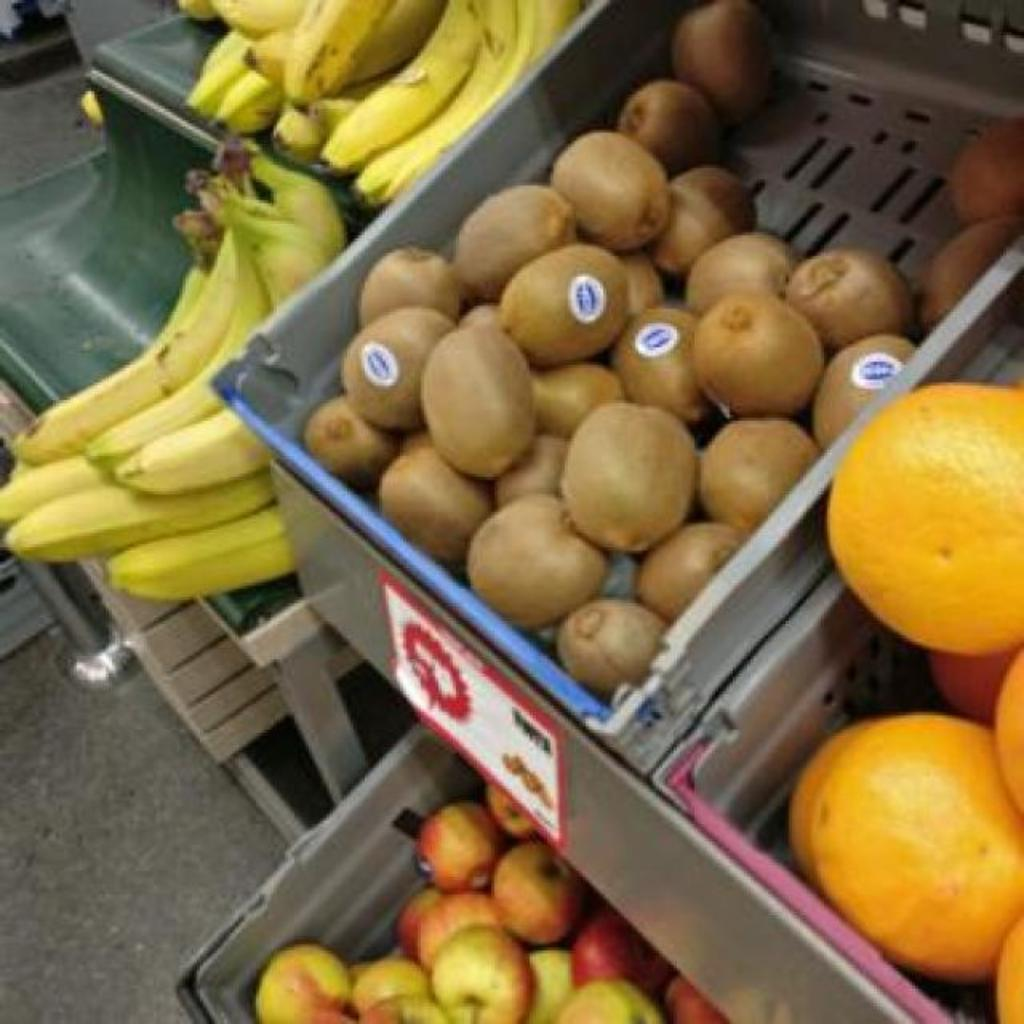kiwi: (924, 118, 1024, 327), (560, 406, 694, 552), (468, 494, 608, 627), (420, 326, 536, 477), (692, 292, 824, 417), (504, 244, 628, 365), (552, 132, 668, 251), (456, 188, 576, 301), (378, 446, 492, 563), (344, 308, 454, 429), (700, 420, 818, 531), (788, 248, 910, 349), (918, 216, 1024, 329), (672, 0, 770, 121), (812, 336, 914, 447), (612, 308, 710, 423), (650, 168, 752, 275), (636, 522, 742, 621), (558, 600, 666, 695), (616, 78, 720, 173), (686, 232, 794, 313), (304, 396, 398, 487), (360, 250, 458, 325), (532, 366, 624, 437), (496, 434, 568, 507), (620, 252, 664, 315), (458, 304, 498, 329)
